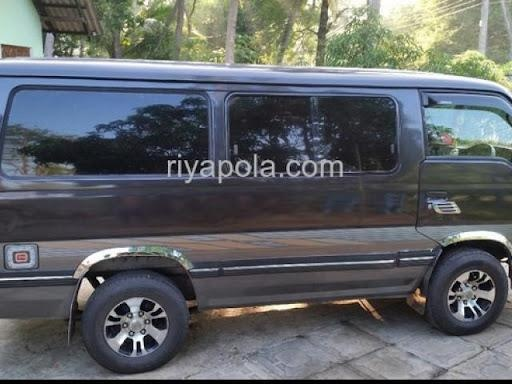van: (0, 51, 512, 339)
